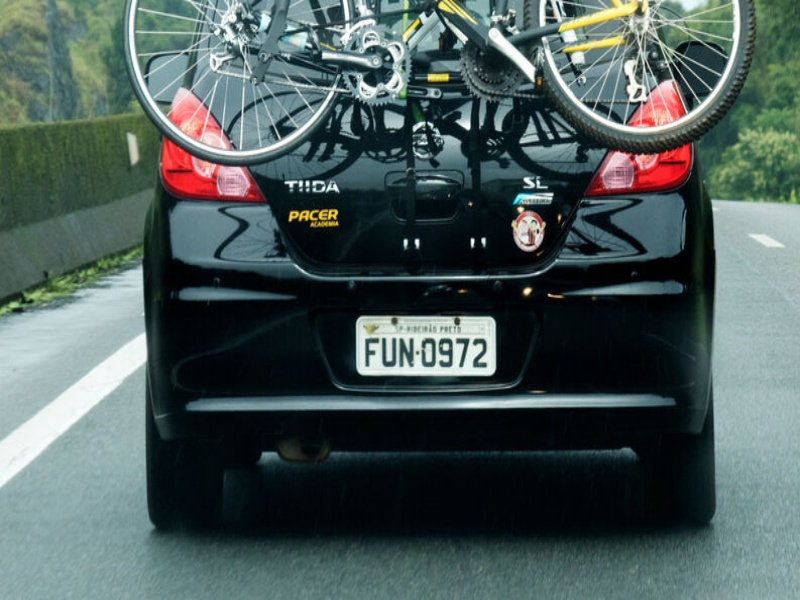placa: (351, 309, 506, 382)
